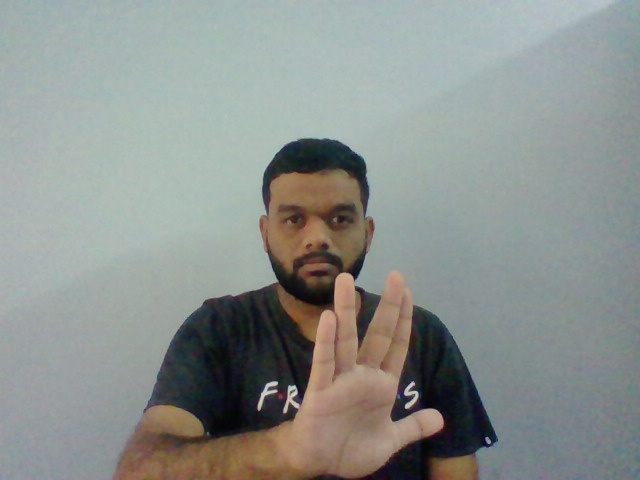Live long and prosper: (304, 269, 444, 480)
